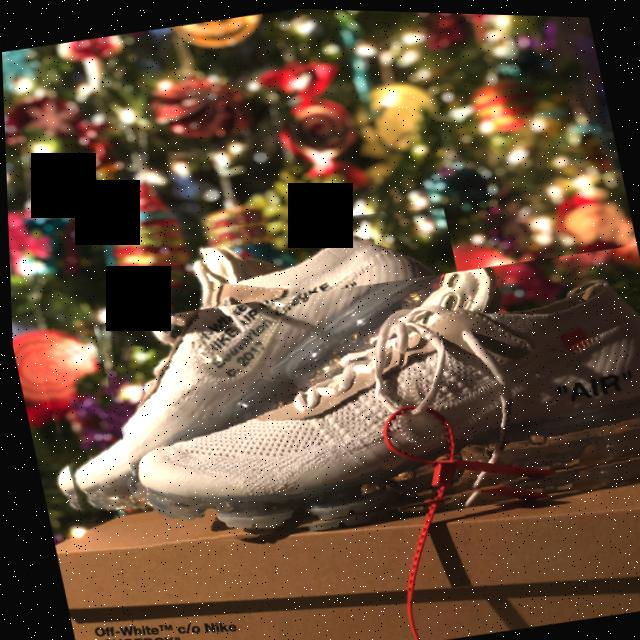shoe: (88, 228, 640, 570), (5, 168, 494, 527)
